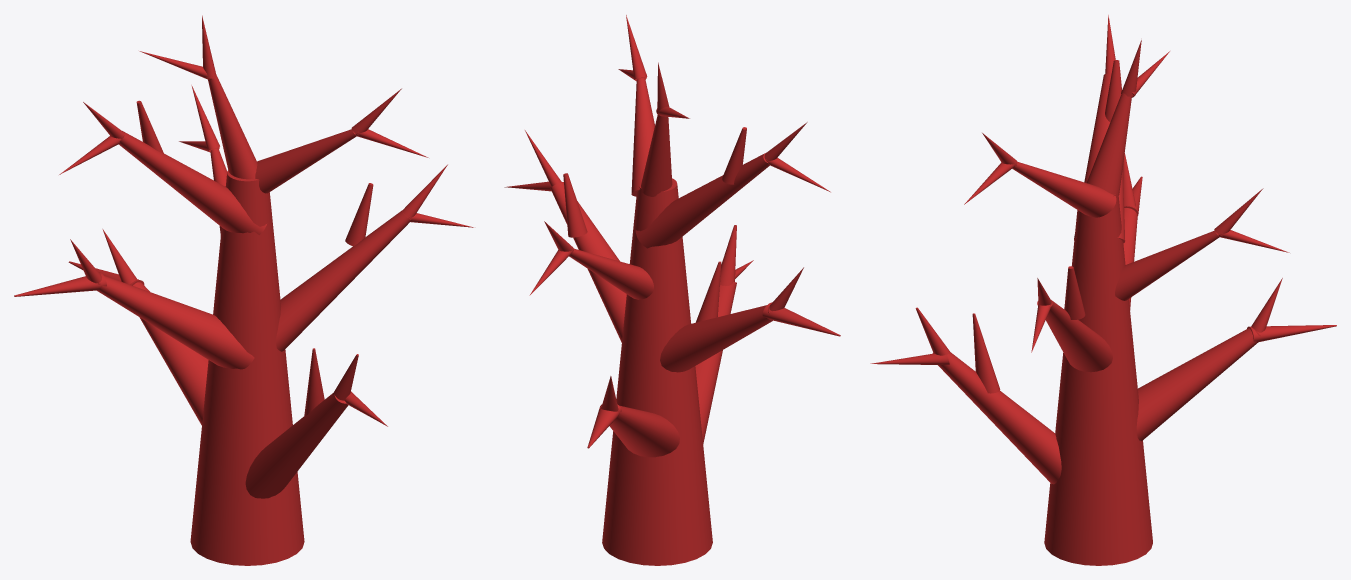
The model's file is AngerLv3.glb.
3 renders of one model, left to right at view 1: azimuth 30°, elevation 25°; view 2: azimuth 150°, elevation 25°; view 3: azimuth 270°, elevation 25°, orthographic. The views are drawn at different scales.
Visible parts, largest first — view 1: Batang020, Cone006, Cone333, Cone002, Cone003, Cone207, Cone005, Cone004, Cone010, Cone334, Cone018; view 2: Batang020, Cone003, Cone006, Cone207, Cone333, Cone210, Cone004, Cone005, Cone002, Cone334, Cone010, Cone018 (+4 smaller); view 3: Batang020, Cone207, Cone002, Cone333, Cone210, Cone005, Cone004, Cone003, Cone018, Cone208, Cone334, Cone006 (+1 smaller).
Boxes of the visible parts, bbox=[...] form: Batang020: bbox=[190, 170, 304, 565]; Cone006: bbox=[97, 275, 254, 369]; Cone333: bbox=[276, 210, 411, 351]; Cone002: bbox=[245, 393, 348, 498]; Cone003: bbox=[119, 131, 266, 234]; Cone207: bbox=[133, 279, 208, 425]; Cone005: bbox=[255, 129, 356, 193]; Cone004: bbox=[208, 74, 257, 179]; Cone010: bbox=[14, 272, 106, 296]; Cone334: bbox=[345, 183, 373, 246]; Cone018: bbox=[304, 348, 324, 416]; Batang020: bbox=[602, 178, 712, 565]; Cone003: bbox=[635, 153, 769, 248]; Cone006: bbox=[660, 305, 772, 372]; Cone207: bbox=[599, 405, 679, 457]; Cone333: bbox=[550, 182, 626, 342]; Cone210: bbox=[569, 248, 653, 299]; Cone004: bbox=[641, 115, 672, 196]; Cone005: bbox=[631, 78, 654, 196]; Cone002: bbox=[695, 282, 736, 443]; Cone334: bbox=[563, 173, 587, 237]; Cone010: bbox=[762, 302, 840, 336]; Cone018: bbox=[696, 261, 721, 322]; Batang020: bbox=[1044, 194, 1152, 565]; Cone207: bbox=[1136, 328, 1260, 441]; Cone002: bbox=[933, 352, 1061, 484]; Cone333: bbox=[1037, 300, 1112, 372]; Cone210: bbox=[1115, 230, 1219, 300]; Cone005: bbox=[1012, 161, 1116, 217]; Cone004: bbox=[1087, 93, 1131, 196]; Cone003: bbox=[1074, 73, 1125, 243]; Cone018: bbox=[972, 313, 1000, 393]; Cone208: bbox=[1247, 325, 1336, 341]; Cone334: bbox=[1064, 266, 1085, 319]; Cone006: bbox=[1123, 206, 1137, 310].
Bounding box in the file's own units: 1.45 × 1.78 × 1.53.
